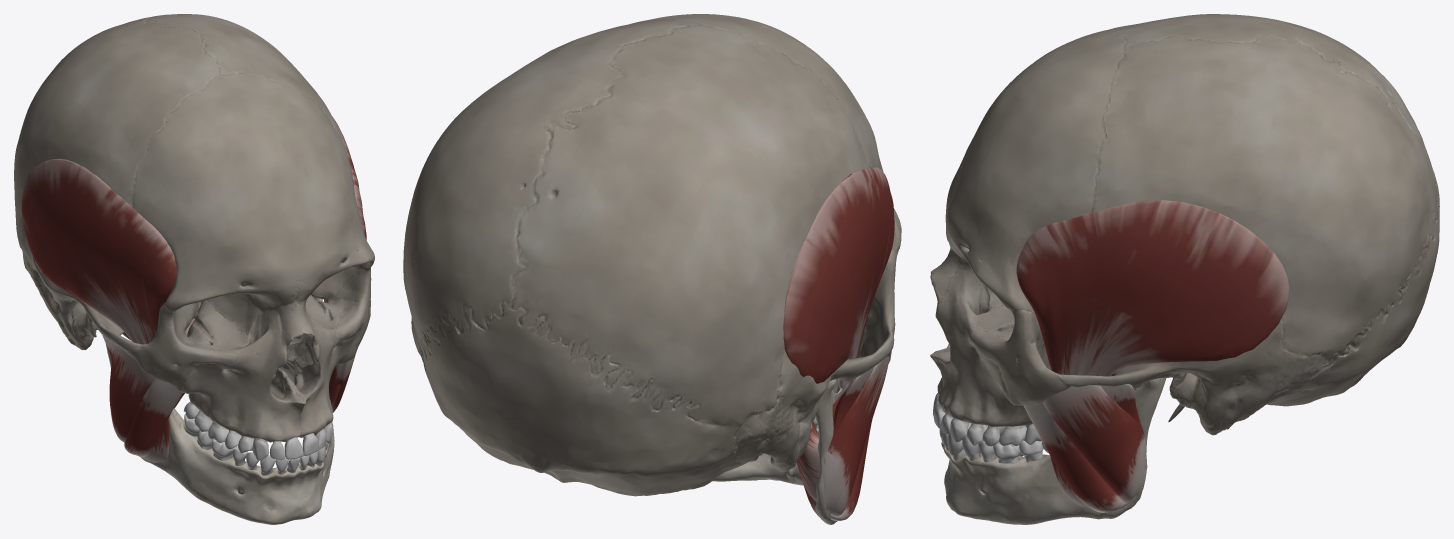
The model's file is 头部肌肉_颞肌咬肌01_opt.glb.
The picture shows the model from 3 angles, left to right: view 1: azimuth 30°, elevation 25°; view 2: azimuth 150°, elevation 25°; view 3: azimuth 270°, elevation 25°; orthographic projection. The views are drawn at different scales.
Visible parts, largest first — view 1: B-SkullCut_mesh_Skull01_0_2, Mesh_(6)_Muskulis_0, B-SkullCut_mesh_Skull01_0, Mesh_(2)_mandible_0, teeth_Zobi_0, B-SkullCut_mesh_Skull01_0_3, B-SkullCut_mesh_Skull01_0_1, Mesh_(2)_mandible_0_1; view 2: B-SkullCut_mesh_Skull01_0_2, Mesh_(6)_Muskulis_0, B-SkullCut_mesh_Skull01_0_3, B-SkullCut_mesh_Skull01_0, Mesh_(2)_mandible_0; view 3: B-SkullCut_mesh_Skull01_0_2, Mesh_(6)_Muskulis_0, B-SkullCut_mesh_Skull01_0, Mesh_(2)_mandible_0, B-SkullCut_mesh_Skull01_0_3, teeth_Zobi_0, B-SkullCut_mesh_Skull01_0_1.
Part boxes in pixels (x1,y1,x2,y2): B-SkullCut_mesh_Skull01_0_2: (14,14,374,442); Mesh_(6)_Muskulis_0: (21,118,366,462); B-SkullCut_mesh_Skull01_0: (24,157,371,438); Mesh_(2)_mandible_0: (106,298,334,524); teeth_Zobi_0: (184,402,333,475); B-SkullCut_mesh_Skull01_0_3: (15,14,371,441); B-SkullCut_mesh_Skull01_0_1: (48,226,370,437); Mesh_(2)_mandible_0_1: (107,298,332,524); B-SkullCut_mesh_Skull01_0_2: (403,14,901,495); Mesh_(6)_Muskulis_0: (783,167,894,521); B-SkullCut_mesh_Skull01_0_3: (403,15,899,495); B-SkullCut_mesh_Skull01_0: (411,258,894,496); Mesh_(2)_mandible_0: (712,379,847,524); B-SkullCut_mesh_Skull01_0_2: (930,14,1439,435); Mesh_(6)_Muskulis_0: (1016,200,1289,512); B-SkullCut_mesh_Skull01_0: (930,158,1418,431); Mesh_(2)_mandible_0: (941,378,1166,524); B-SkullCut_mesh_Skull01_0_3: (937,14,1439,433); teeth_Zobi_0: (933,393,1049,463); B-SkullCut_mesh_Skull01_0_1: (931,193,1413,426).
Size of the model in its own units: 0.2199 by 0.3 by 0.2941.
Materials: 4 (3 with a texture image).
